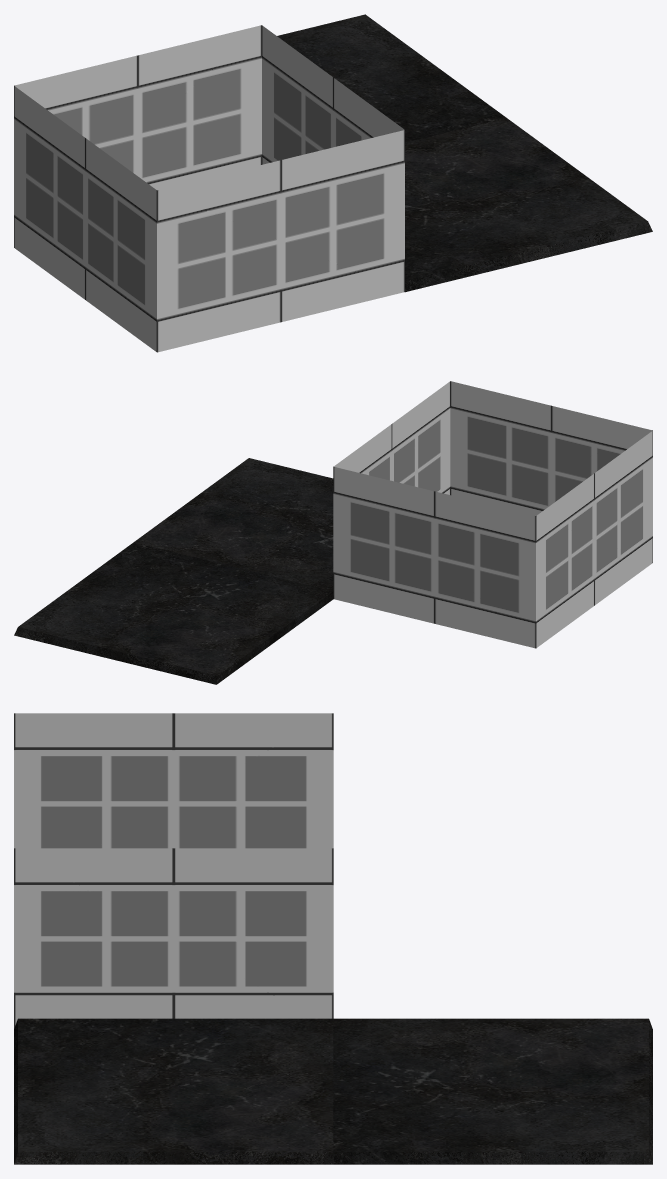
Rendered from highrise_3to1.glb.
3 views of the same model, one above another, from view 1: azimuth 30°, elevation 25°; view 2: azimuth 150°, elevation 25°; view 3: azimuth 270°, elevation 25° (orthographic). The views are drawn at different scales.
Visible parts, largest first — view 1: Highrise.3to1; view 2: Highrise.3to1; view 3: Highrise.3to1.
Boxes of the visible parts, <box> form: Highrise.3to1: <box>14,14,652,352</box>; Highrise.3to1: <box>14,381,652,684</box>; Highrise.3to1: <box>14,713,652,1164</box>.
Bounding box in the file's own units: 0.8 × 0.2503 × 0.8.
Materials: 1 (1 with a texture image).
